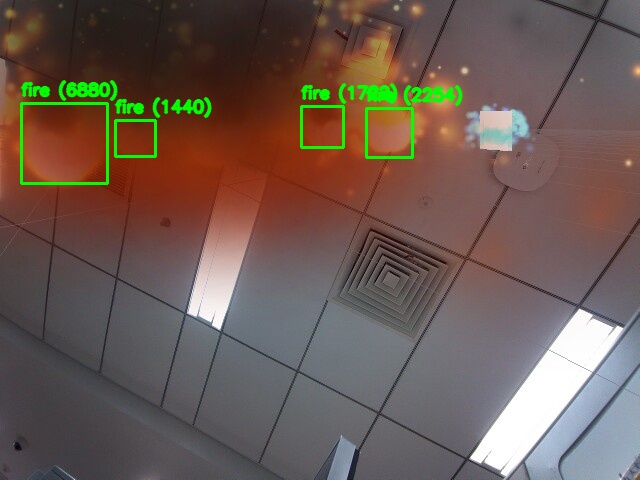fire: (21, 103, 107, 183), (366, 108, 412, 157), (301, 106, 343, 147), (115, 120, 155, 156)
